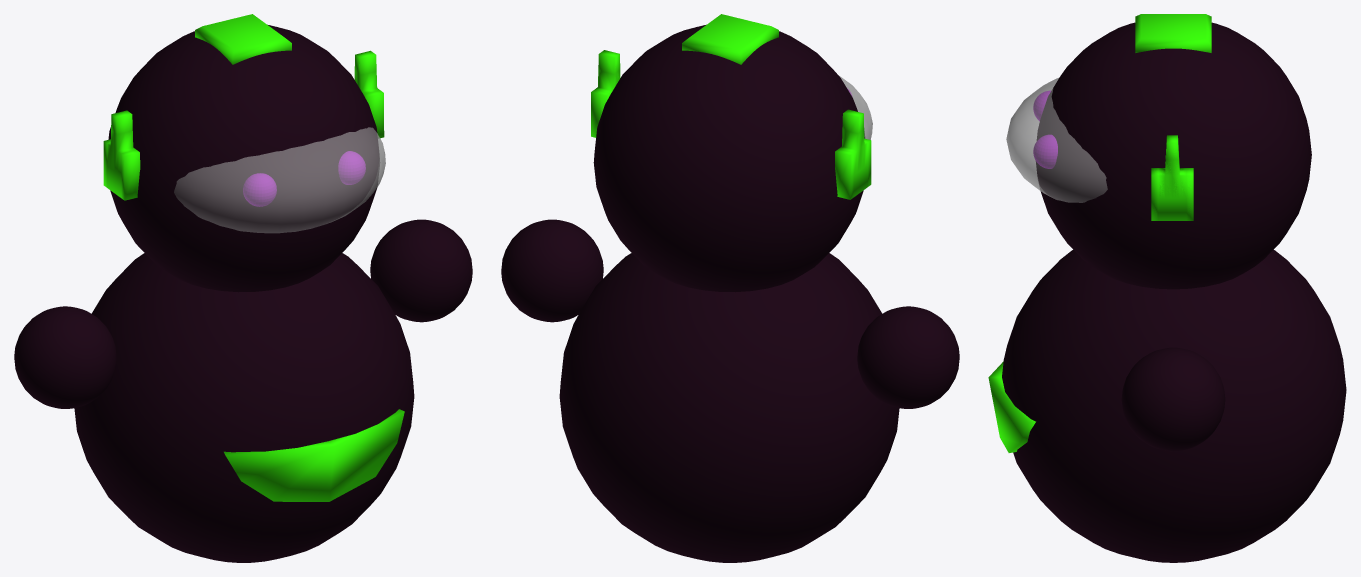
Rendered from chatgpt.glb.
3 views of the same model, side by side, from view 1: azimuth 30°, elevation 25°; view 2: azimuth 150°, elevation 25°; view 3: azimuth 270°, elevation 25° (orthographic).
Visible parts, largest first — view 1: Body, Face, Plane.004, Arm_-1, Arm_1, eye2; view 2: Body, Face, Arm_-1, Arm_1; view 3: Body, Face, Arm_1, Plane.004, eye2.
Part boxes in pixels (bbox=[...]): Body: bbox=[74, 253, 414, 562]; Face: bbox=[103, 14, 385, 292]; Plane.004: bbox=[224, 409, 404, 501]; Arm_-1: bbox=[14, 306, 116, 408]; Arm_1: bbox=[370, 219, 472, 322]; eye2: bbox=[243, 151, 365, 206]; Body: bbox=[559, 253, 899, 562]; Face: bbox=[591, 14, 872, 292]; Arm_-1: bbox=[857, 306, 959, 408]; Arm_1: bbox=[501, 219, 603, 322]; Body: bbox=[1002, 249, 1346, 562]; Face: bbox=[1006, 14, 1311, 289]; Arm_1: bbox=[1121, 347, 1225, 451]; Plane.004: bbox=[988, 361, 1035, 452]; eye2: bbox=[1033, 91, 1057, 168].
Bounding box in the file's own units: 3 × 3.32 × 2.07.
